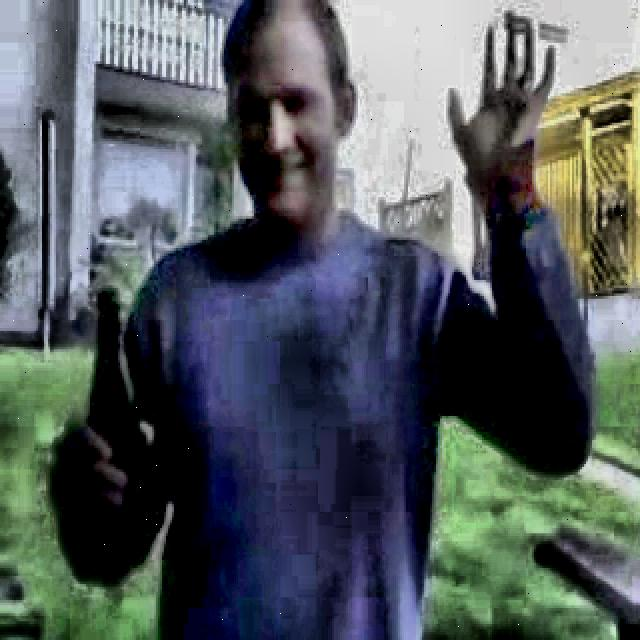L: (35, 1, 599, 640)
